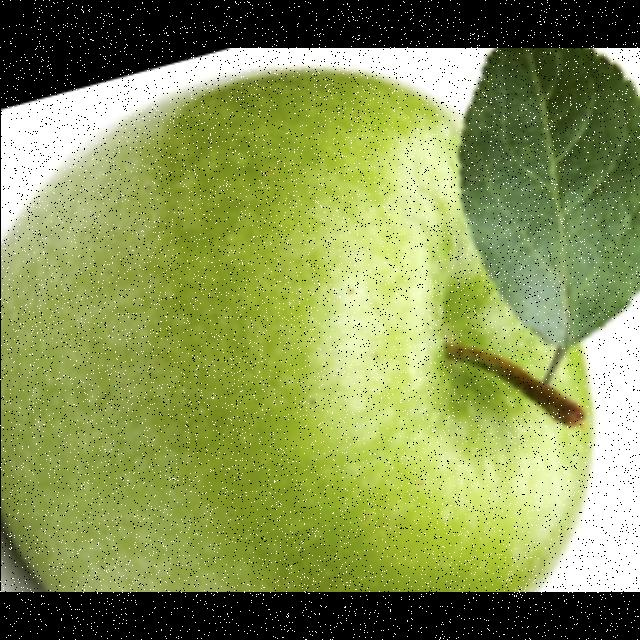Apel Segar: (1, 70, 604, 592)
